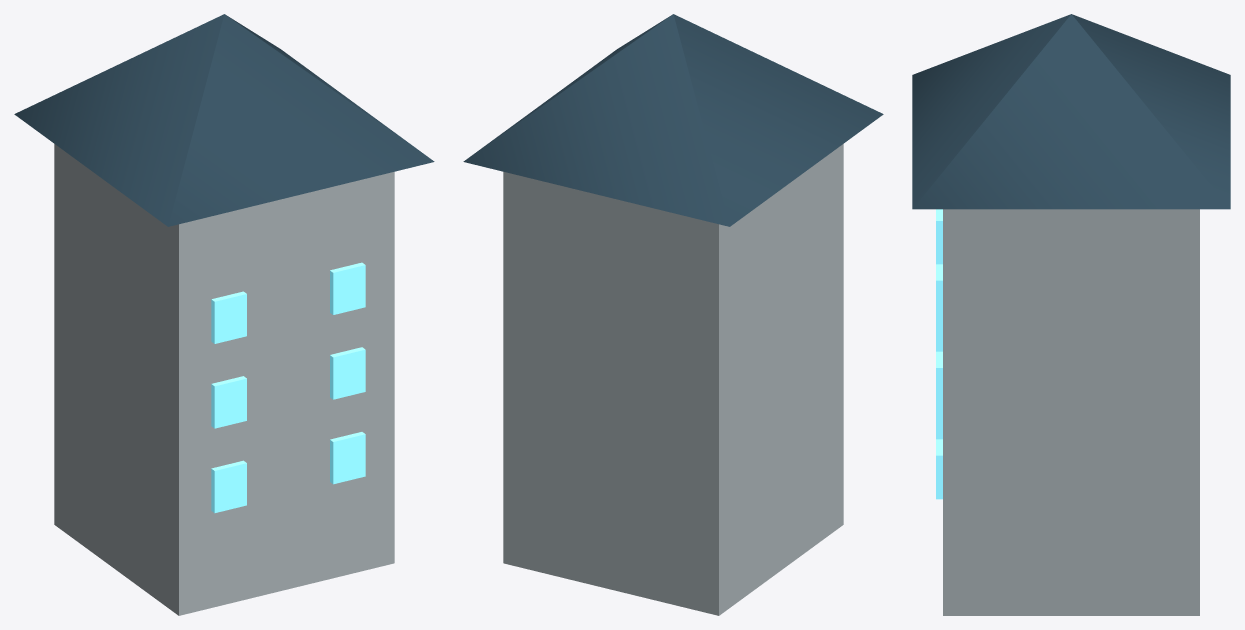
Rendered from skyport-tower.gltf.
3 views of the same model, side by side, from view 1: azimuth 30°, elevation 25°; view 2: azimuth 150°, elevation 25°; view 3: azimuth 270°, elevation 25° (orthographic). The views are drawn at different scales.
Size of the model in its own units: 4.95 by 9.4 by 4.95.
